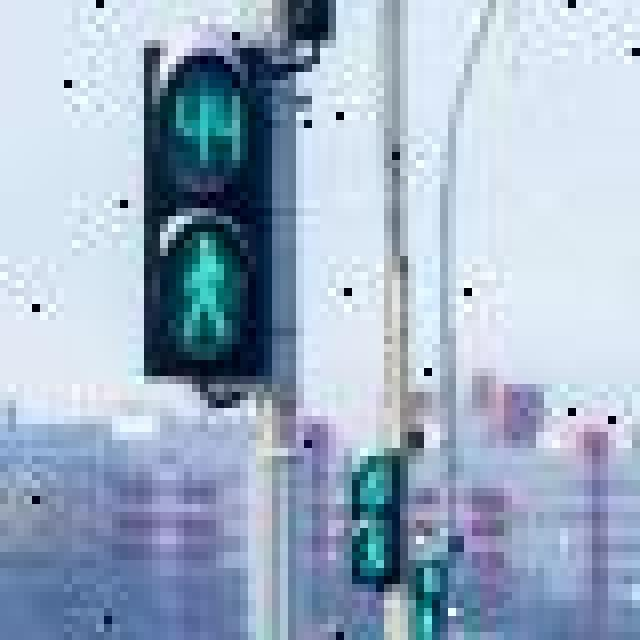greenlight: (128, 32, 280, 368), (344, 454, 396, 586)
